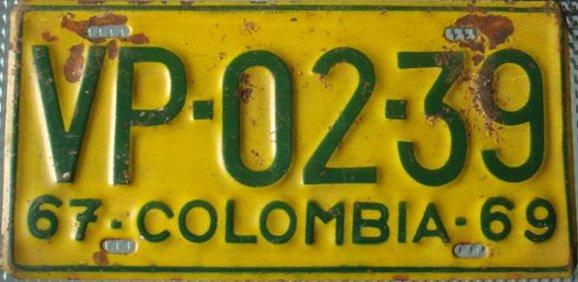placas: (3, 1, 575, 279)
